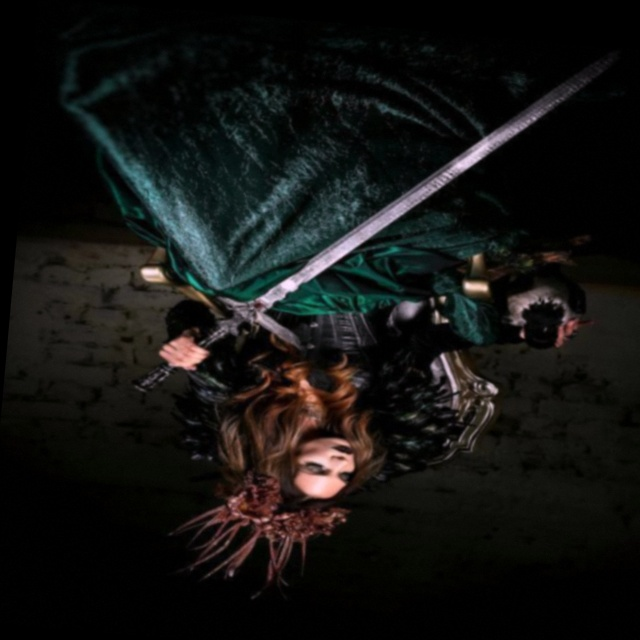Sharp-Object: (189, 13, 640, 421)
